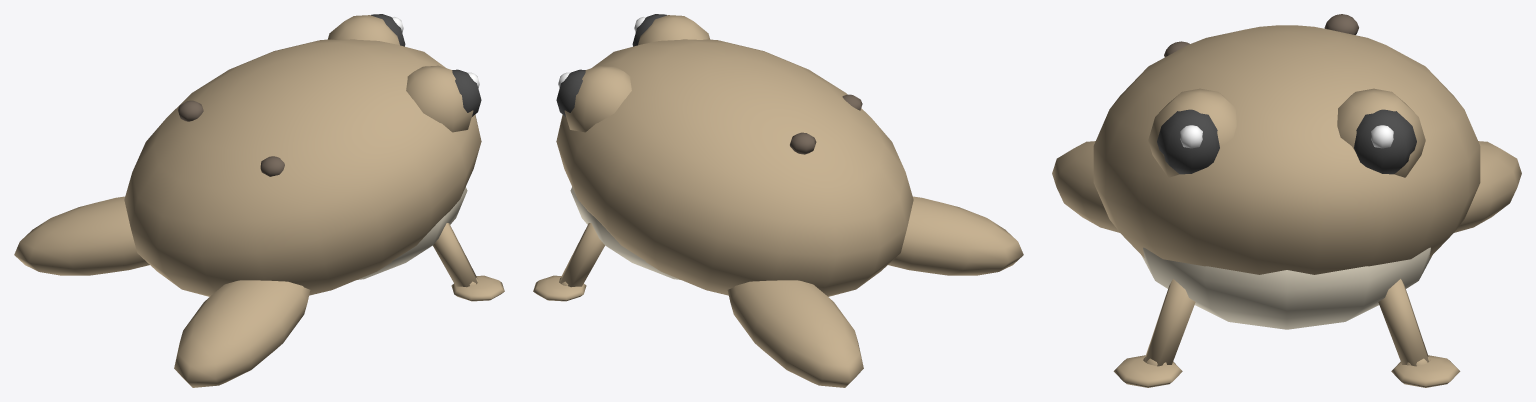
The model's file is asian-common-toad.glb.
The picture shows the model from 3 angles, left to right: view 1: azimuth 30°, elevation 25°; view 2: azimuth 150°, elevation 25°; view 3: azimuth 270°, elevation 25°; orthographic projection. The views are drawn at different scales.
Parts seen in each view (by area): view 1: e, e.019, e.026, e.020; view 2: e, e.026, e.019, e.027; view 3: e, e.027, e.020, e.019, e.026.
Boxes of the visible parts, x1,y1,x2,y2 form: e: [124, 14, 481, 296]; e.019: [174, 280, 310, 387]; e.026: [14, 196, 149, 275]; e.020: [433, 223, 504, 301]; e: [556, 14, 913, 296]; e.026: [727, 280, 863, 387]; e.019: [888, 196, 1023, 275]; e.027: [533, 223, 604, 301]; e: [1093, 14, 1480, 329]; e.027: [1378, 279, 1460, 387]; e.020: [1113, 279, 1195, 387]; e.019: [1052, 141, 1119, 232]; e.026: [1454, 141, 1521, 232].
Bounding box in the file's own units: 0.6028 × 0.35 × 0.5416.
